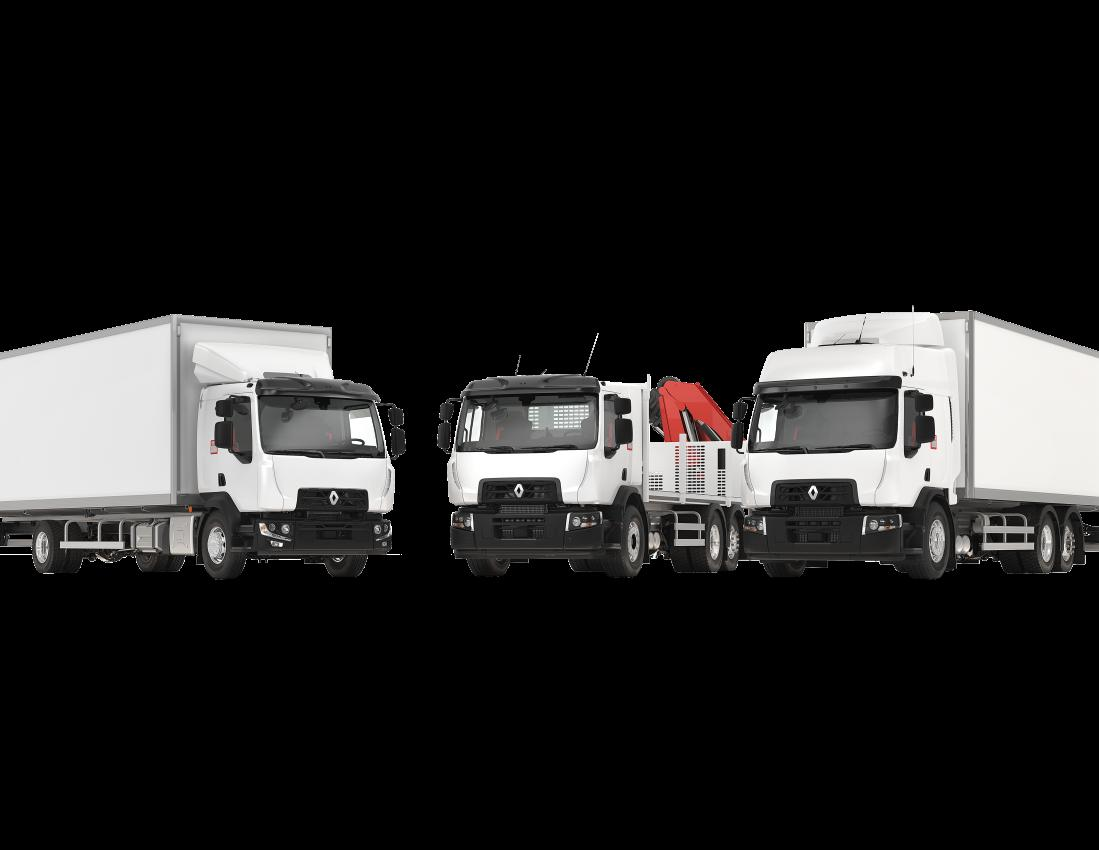truck: (1, 314, 405, 579), (731, 310, 1099, 580), (440, 374, 744, 577)
